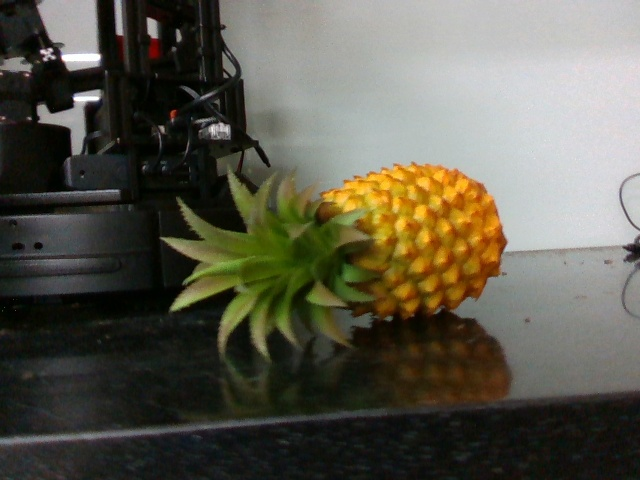pineapple: (183, 151, 514, 346)
